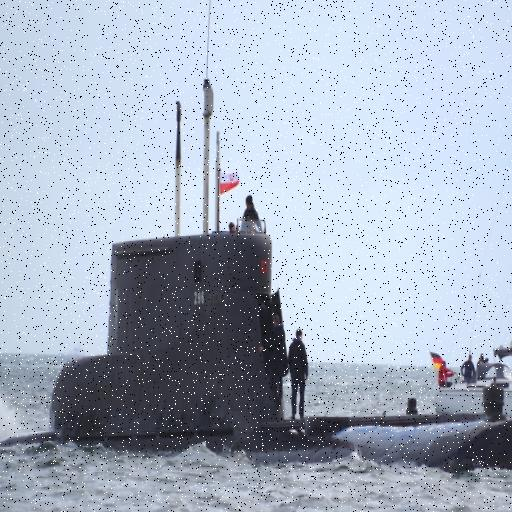submarine: (1, 229, 512, 475)
